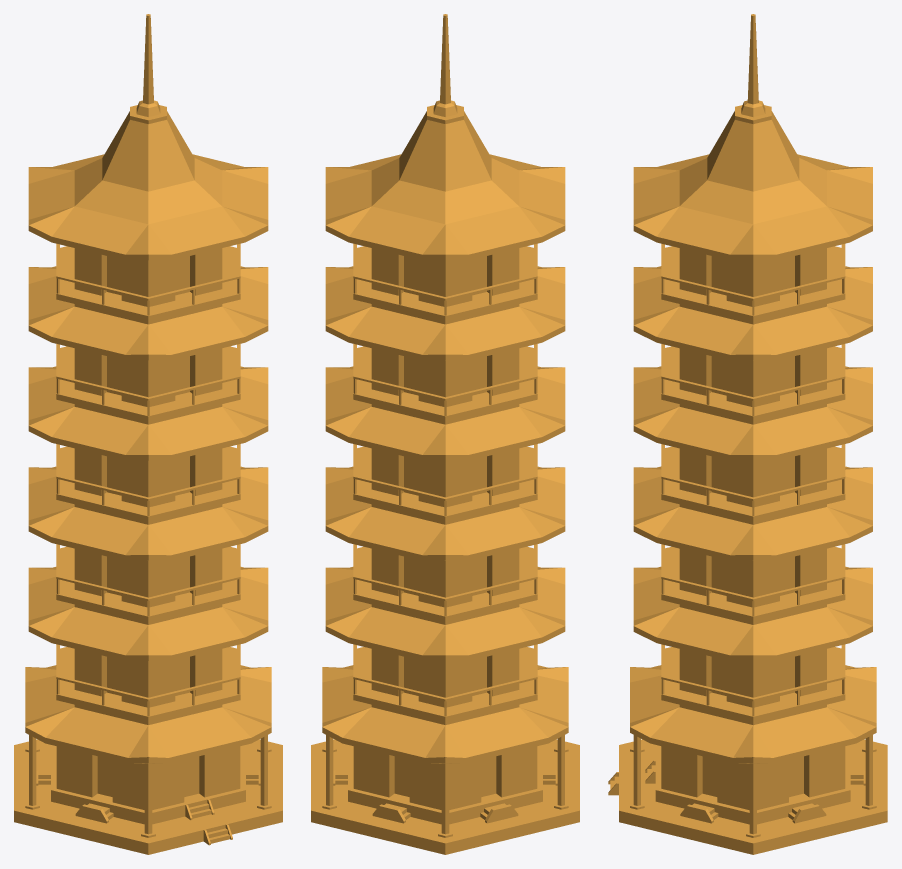
The model's file is building-pagoda-china.glb.
3 renders of one model, left to right at view 1: azimuth 30°, elevation 25°; view 2: azimuth 150°, elevation 25°; view 3: azimuth 270°, elevation 25°, orthographic.
Visible parts, largest first — view 1: building-pagoda-china; view 2: building-pagoda-china; view 3: building-pagoda-china.
Boxes of the visible parts, bbox=[...] form: building-pagoda-china: bbox=[14, 14, 282, 854]; building-pagoda-china: bbox=[311, 14, 579, 854]; building-pagoda-china: bbox=[608, 14, 887, 854].
Bounding box in the file's own units: 14.6 × 40.2 × 13.14.
